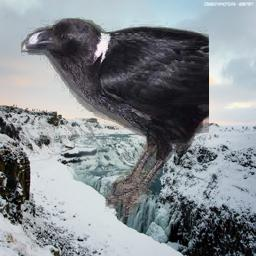Crow: (21, 17, 209, 217)
